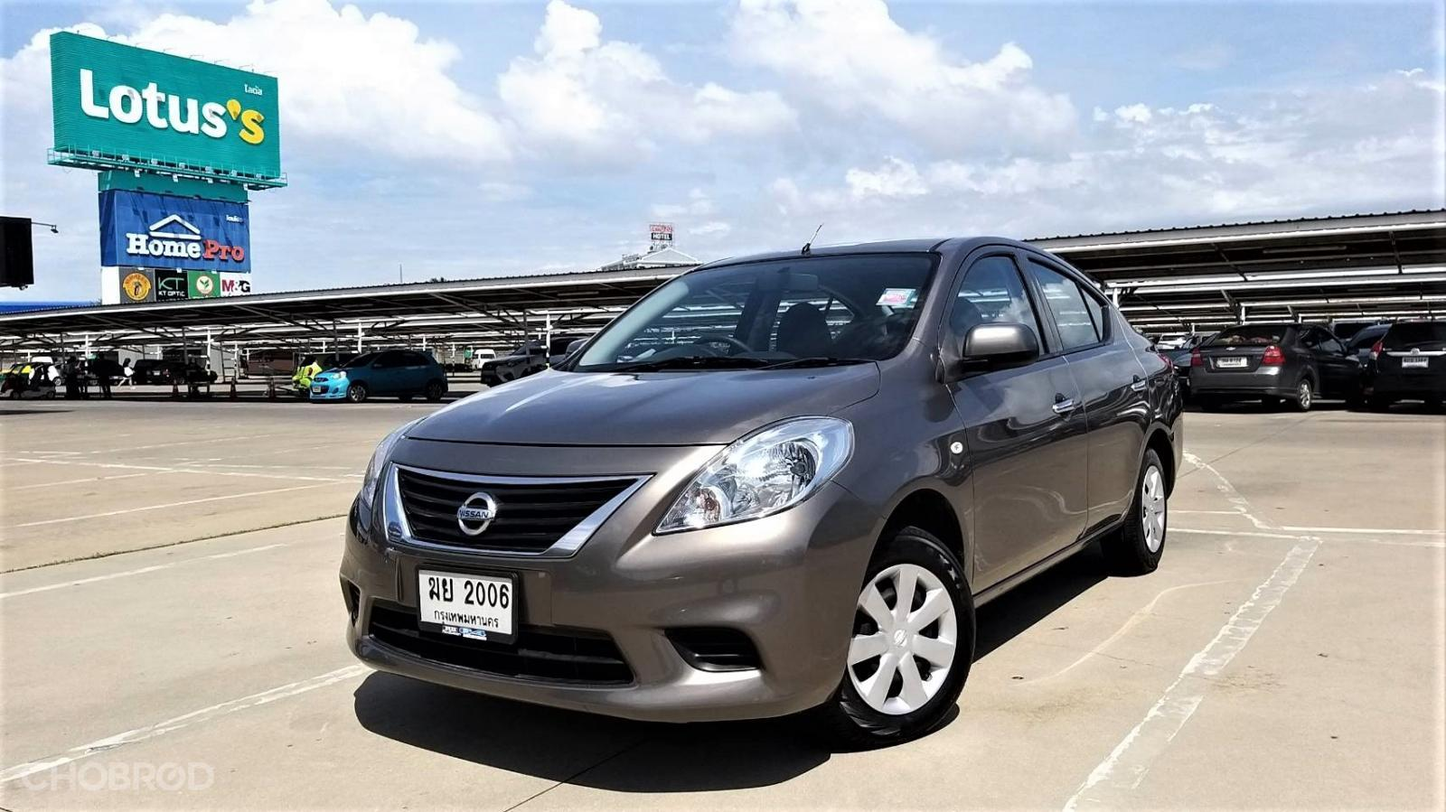license-plate: (409, 555, 526, 670)
